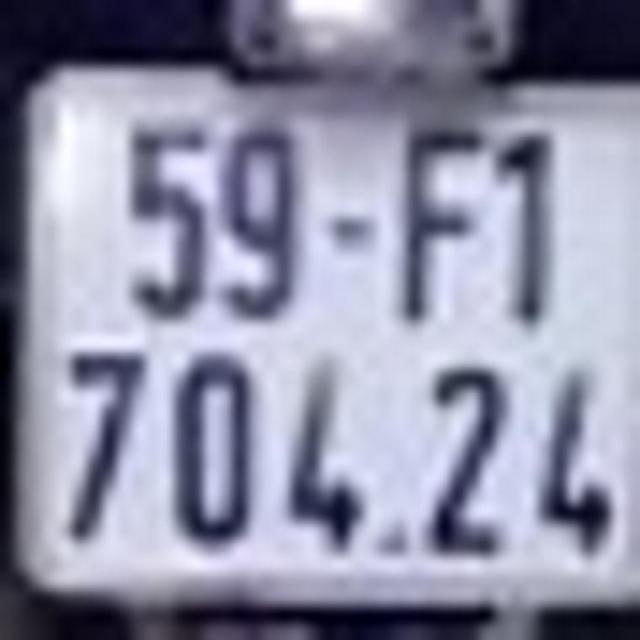0: (180, 351, 254, 536)
1: (500, 122, 548, 324)
2: (440, 370, 508, 561)
4: (543, 360, 611, 564), (292, 347, 359, 543)
5: (137, 122, 203, 312)
7: (68, 352, 144, 543)
9: (229, 123, 291, 327)
F: (404, 121, 485, 330)
